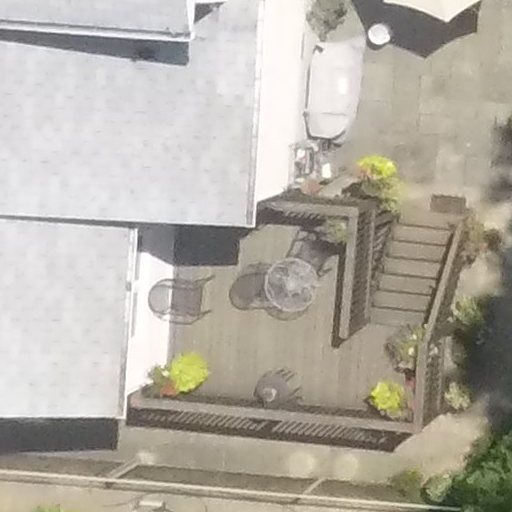chair: (138, 256, 218, 333), (250, 365, 312, 412)
container: (365, 12, 398, 48), (258, 386, 280, 403)
flower pot: (133, 346, 207, 401), (387, 322, 422, 379), (368, 382, 415, 422), (348, 159, 397, 197), (259, 385, 279, 401)
porch: (108, 170, 490, 450)
table: (258, 253, 325, 330)
